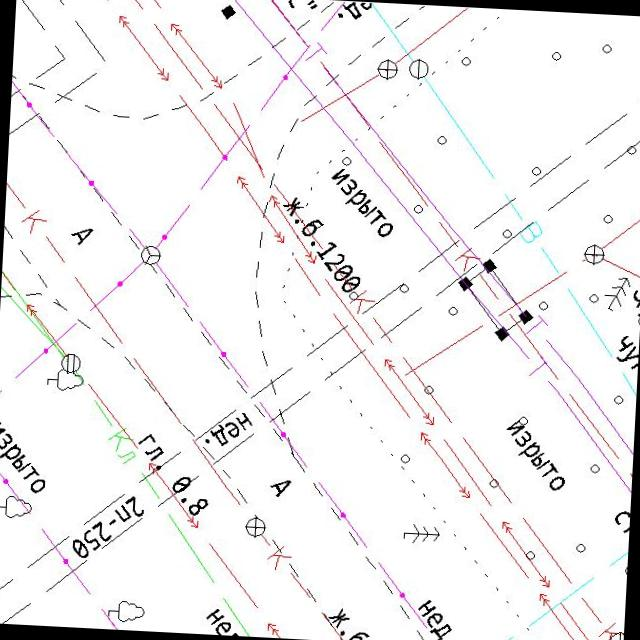asphalt: (268, 476, 292, 500), (70, 226, 94, 246)
tree: (603, 274, 633, 314), (106, 598, 147, 626), (402, 522, 442, 547), (0, 493, 34, 520)
well: (373, 55, 402, 83), (581, 241, 608, 269), (242, 514, 270, 540), (406, 56, 432, 82), (139, 244, 163, 268), (59, 352, 83, 376)
